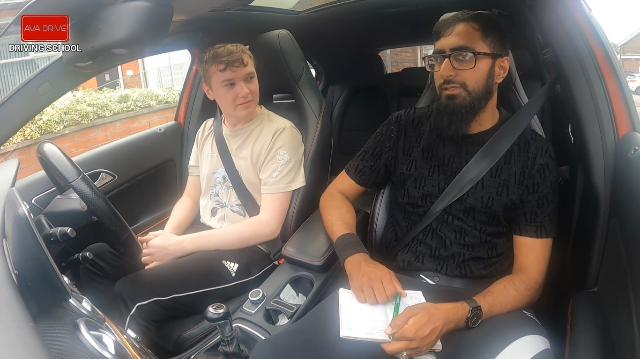seatbelt: (115, 107, 329, 301), (384, 75, 558, 261)
